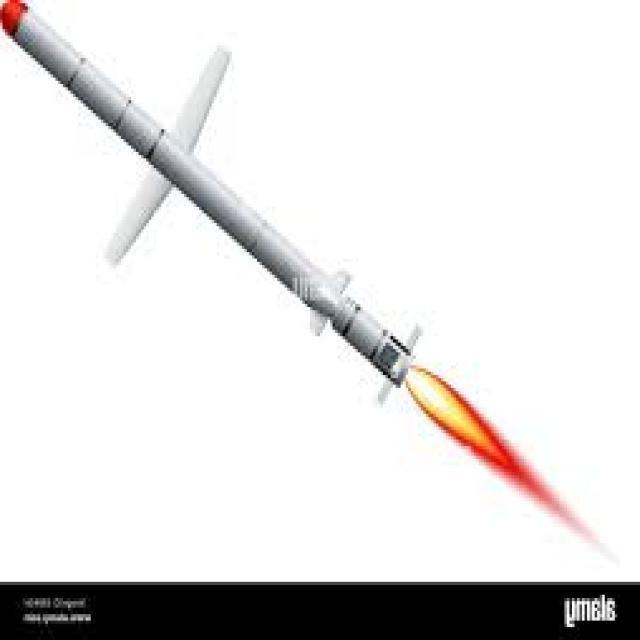missile: (0, 0, 424, 407)
